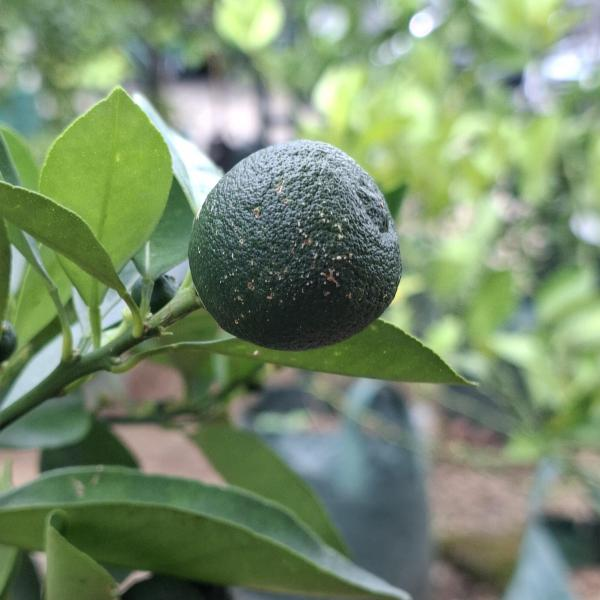Scab: (171, 120, 428, 364)
